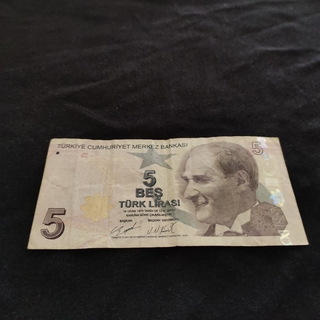5TLFront: (26, 136, 311, 251)
